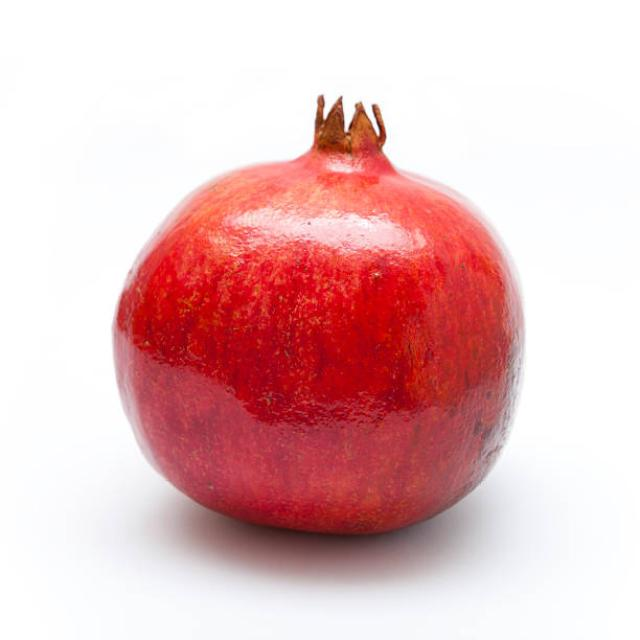Ripe: (106, 87, 532, 539)
